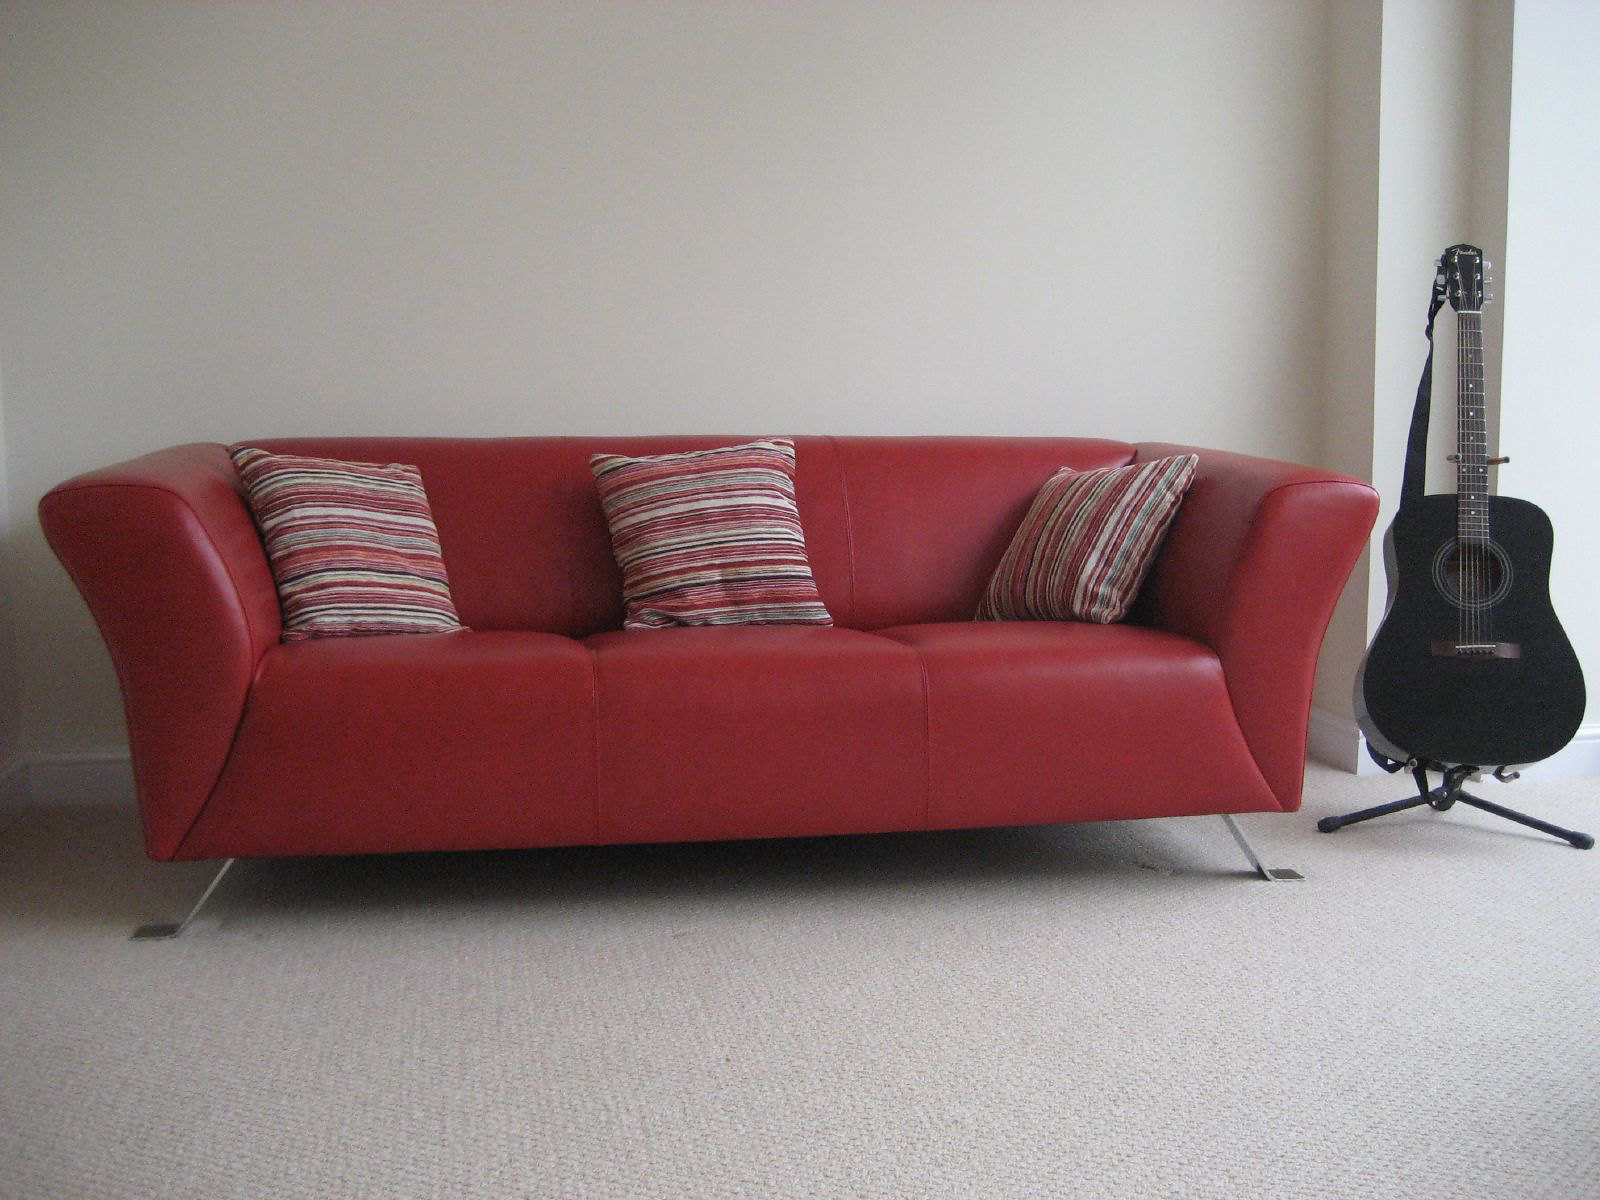sofa: (31, 417, 1390, 916)
